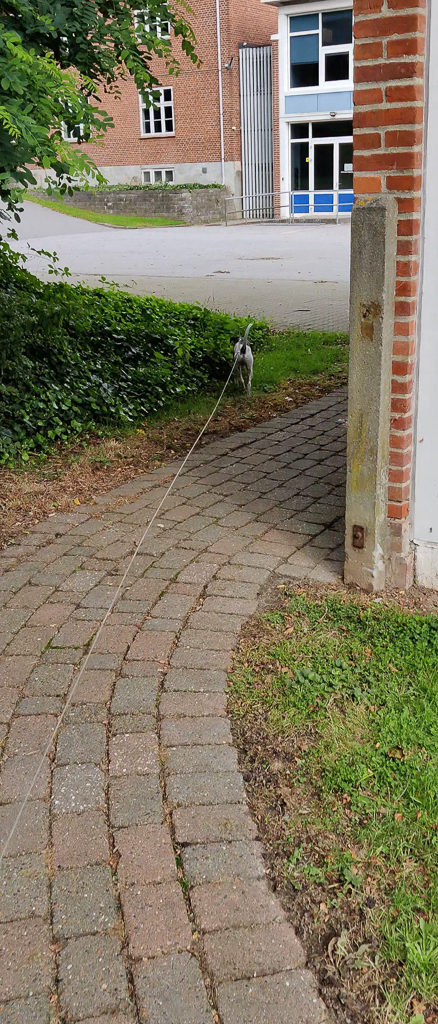Dog: (222, 316, 270, 401)
